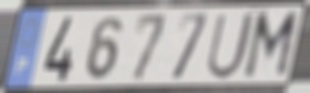4: (42, 15, 75, 85)
6: (83, 14, 125, 83)
7: (171, 11, 209, 84), (133, 11, 169, 85)
M: (240, 9, 302, 83)
U: (204, 10, 258, 82)
